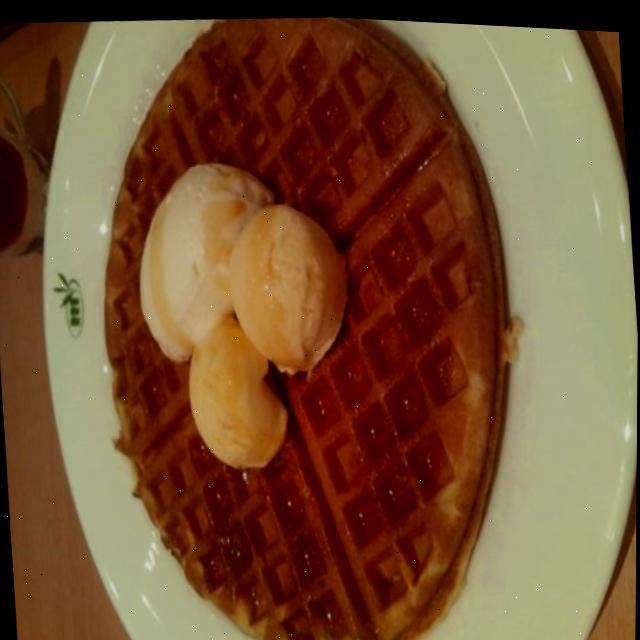熟制海鲜: (0, 346, 38, 640)
